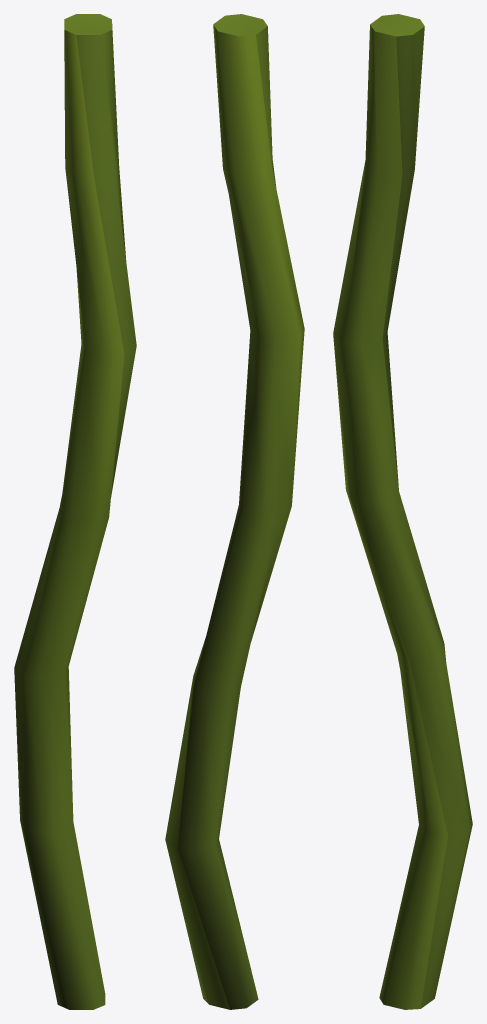
File: vine_vertical_straight_green_LOD_group.fbx
The picture shows the model from 3 angles, left to right: view 1: azimuth 90°, elevation 25°; view 2: azimuth 150°, elevation 25°; view 3: azimuth 330°, elevation 25°; orthographic projection.
Visible parts, largest first — view 1: vine_vertical_straight_green_LOD0; view 2: vine_vertical_straight_green_LOD0; view 3: vine_vertical_straight_green_LOD0.
Boxes of the visible parts, left/top/right/bottom form: vine_vertical_straight_green_LOD0: left=14, top=14, right=136, bottom=1009; vine_vertical_straight_green_LOD0: left=165, top=14, right=304, bottom=1009; vine_vertical_straight_green_LOD0: left=333, top=14, right=472, bottom=1009.
Size of what is drawn, in the model's own units: 31.81 by 292 by 33.12.
Materials: 1 (1 with a texture image).
